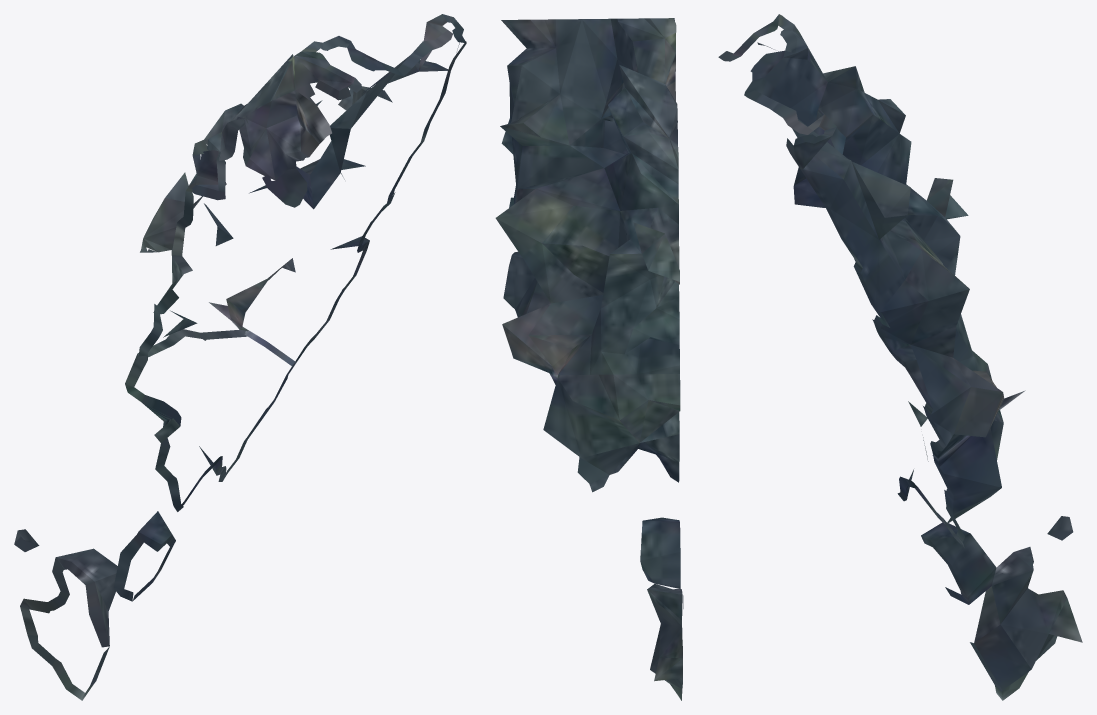
The picture shows the model from 3 angles, left to right: view 1: azimuth 30°, elevation 25°; view 2: azimuth 150°, elevation 25°; view 3: azimuth 270°, elevation 25°; orthographic projection. The views are drawn at different scales.
Bounding box in the file's own units: 17.28 × 35.04 × 15.51.
Materials: 1 (1 with a texture image).
